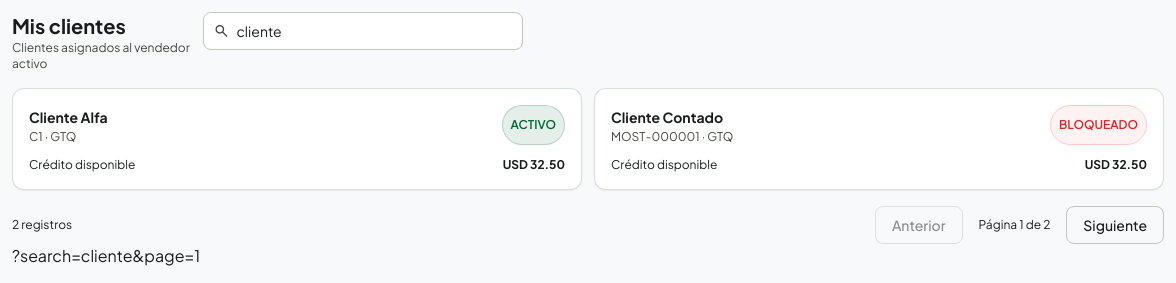
ClientsPage search and customer details › debounces typed searches and resets pagination
Step 1. Click the button "Siguiente" → (1115, 225), box x1=1066 y1=206 x2=1164 y2=244
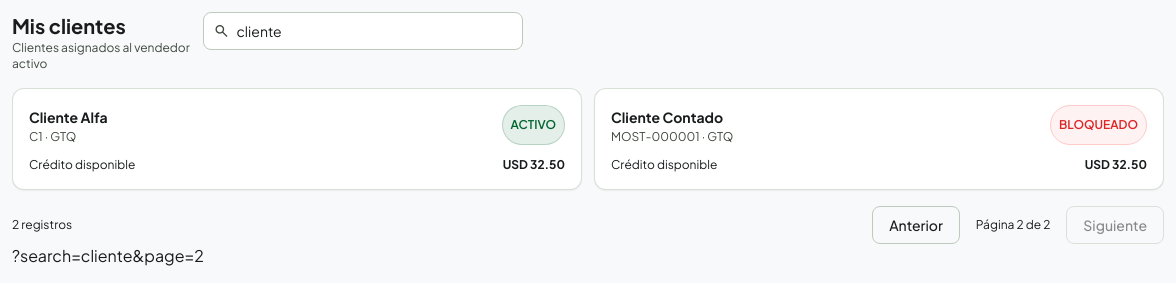
Step 2. Replace the text in the field with placeholder "Cuenta o nombre..." with "nuevo" → (364, 31), box x1=204 y1=12 x2=524 y2=50
Wait 1000 ms
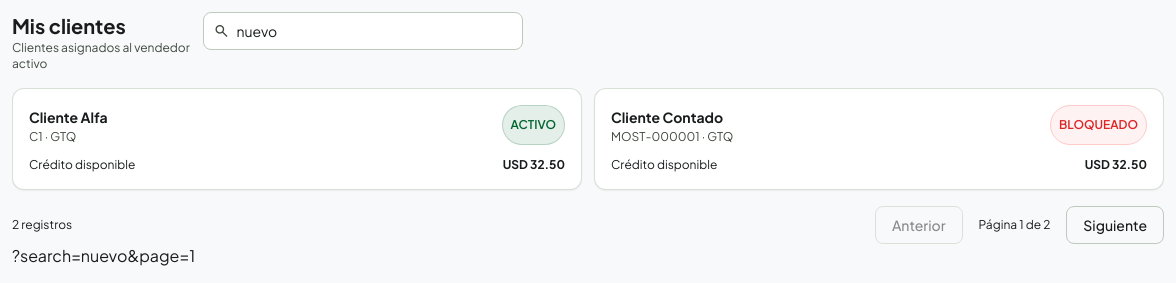
Expected: the text with test id "location" shows "search=nuevo&page=1", x1=12 y1=245 x2=195 y2=266
